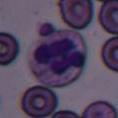N: (29, 29, 88, 88)
